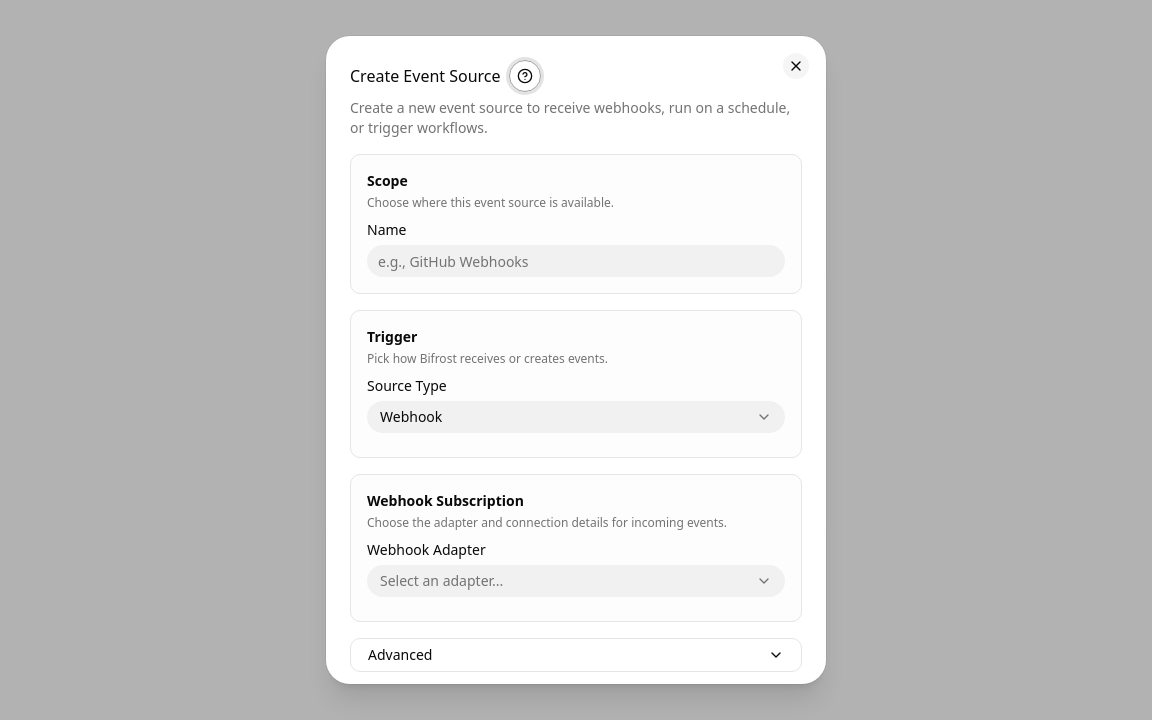
Test case: CreateEventSourceDialog — topic branch › reveals topic picker when source type is changed to topic
Click the dropdown named "source type" at [411, 416], box [367, 401, 785, 433]
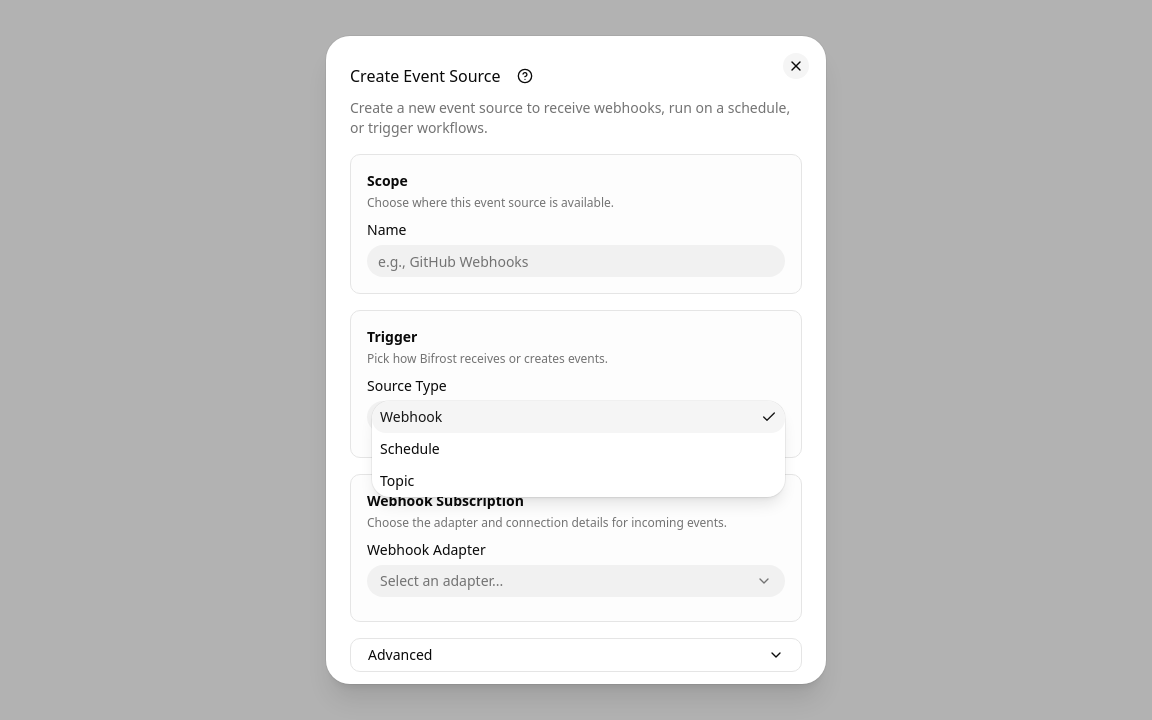
Click the option "Topic" at [397, 480], box [380, 471, 414, 490]
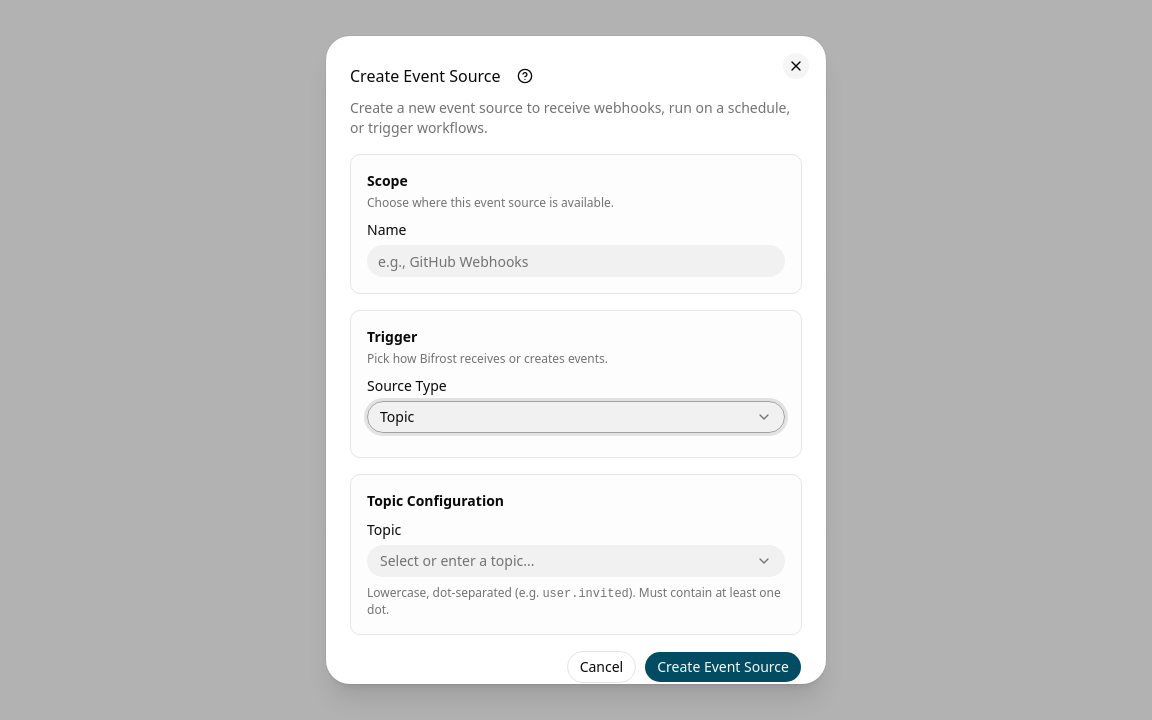
Expected: the dropdown labelled "Select or enter a topic..." is shown, [367, 545, 785, 577]
Expected: the label labelled "Webhook Adapter" is gone
